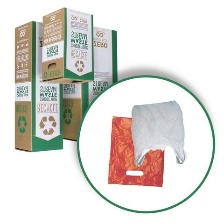plastic_bag: (102, 112, 171, 188), (128, 99, 192, 169)
